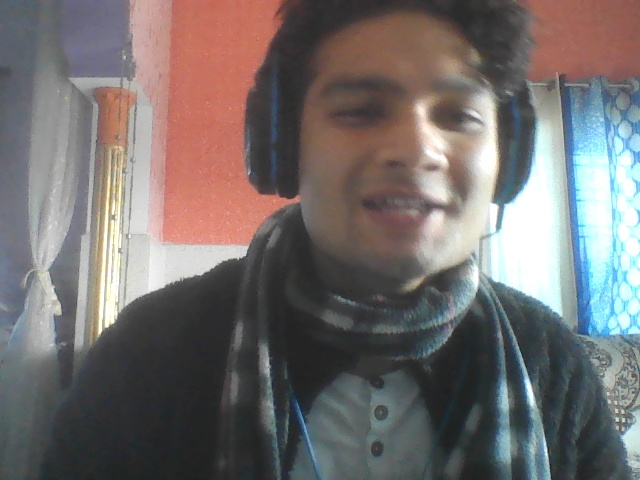real: (265, 0, 525, 368)
